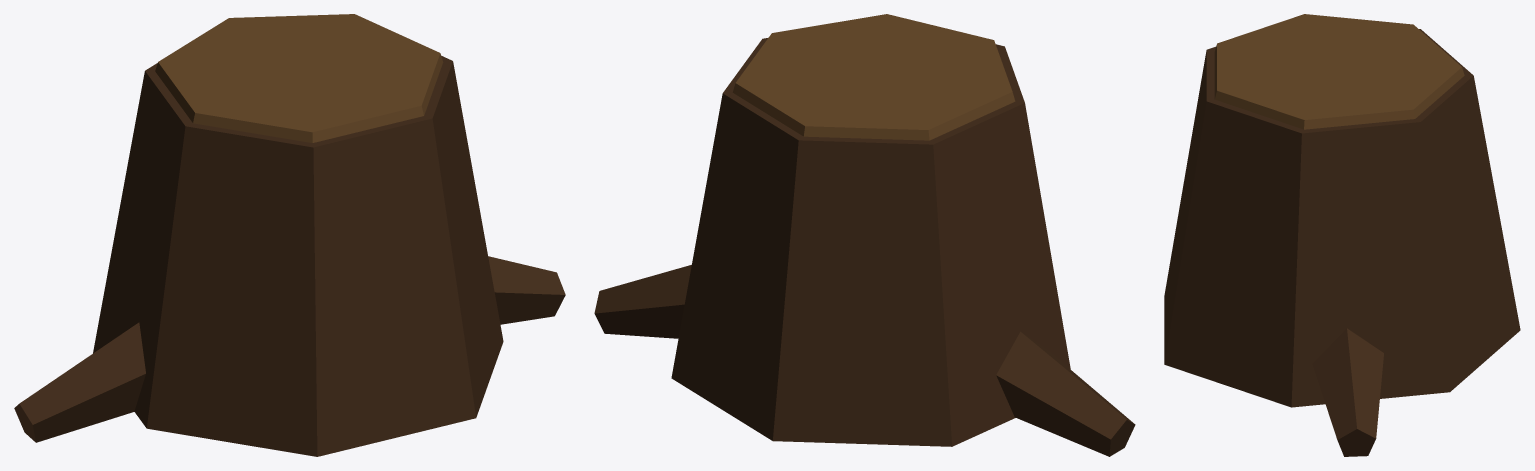
The model's file is SM_ENV_Wood_01_Stump.glb.
3 views of the same model, side by side, from view 1: azimuth 30°, elevation 25°; view 2: azimuth 150°, elevation 25°; view 3: azimuth 270°, elevation 25° (orthographic). The views are drawn at different scales.
Visible parts, largest first — view 1: SM_ENV_Wood_01_Stump; view 2: SM_ENV_Wood_01_Stump; view 3: SM_ENV_Wood_01_Stump.
Boxes of the visible parts, x1=… form: SM_ENV_Wood_01_Stump: x1=14, y1=14, x2=565, y2=456; SM_ENV_Wood_01_Stump: x1=594, y1=14, x2=1135, y2=456; SM_ENV_Wood_01_Stump: x1=1164, y1=14, x2=1520, y2=456.
Size of the model in its own units: 0.9402 by 0.5231 by 0.6083.
